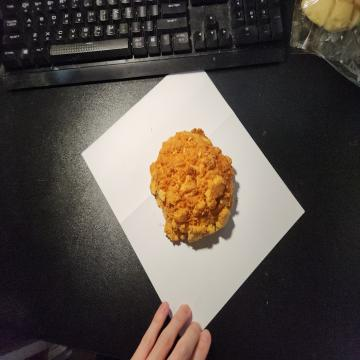soboru_bread: (149, 127, 235, 246)
